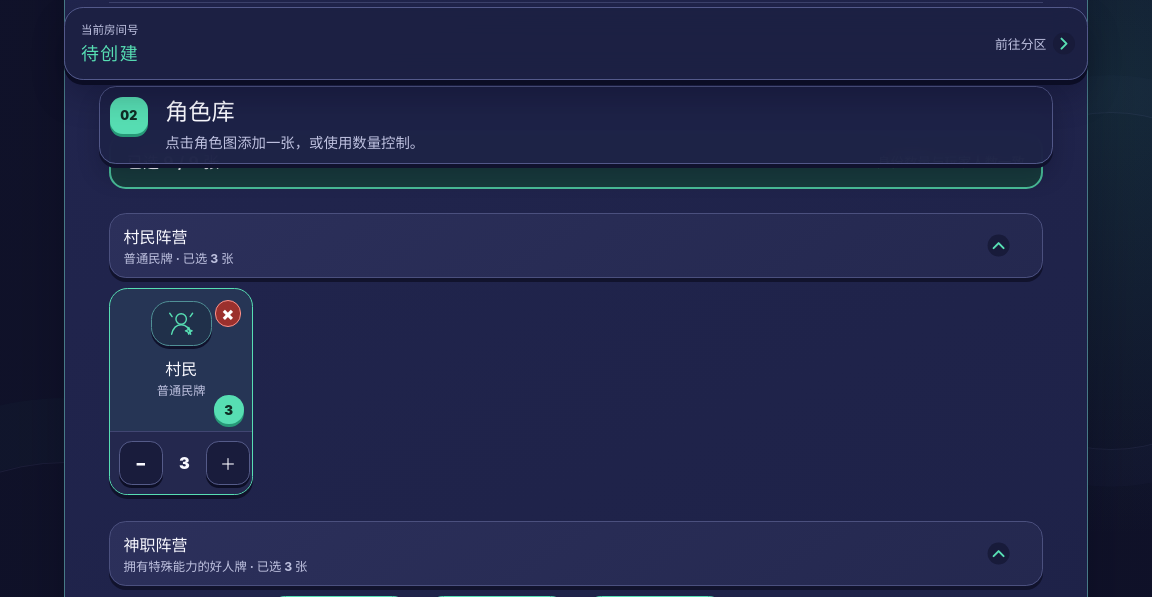
Test case: 上帝 Mock 流程 › 角色图按钮、加减号和移除操作会更新卡牌数量
The width and height of the screenshot is (1152, 597).
(page scrolled)
Expected: the text named "村民数量" reads "3", [179,453,190,473]
Click the button with aria-label "添加一张村民".
click(181, 360)  # box [110,289,252,432]
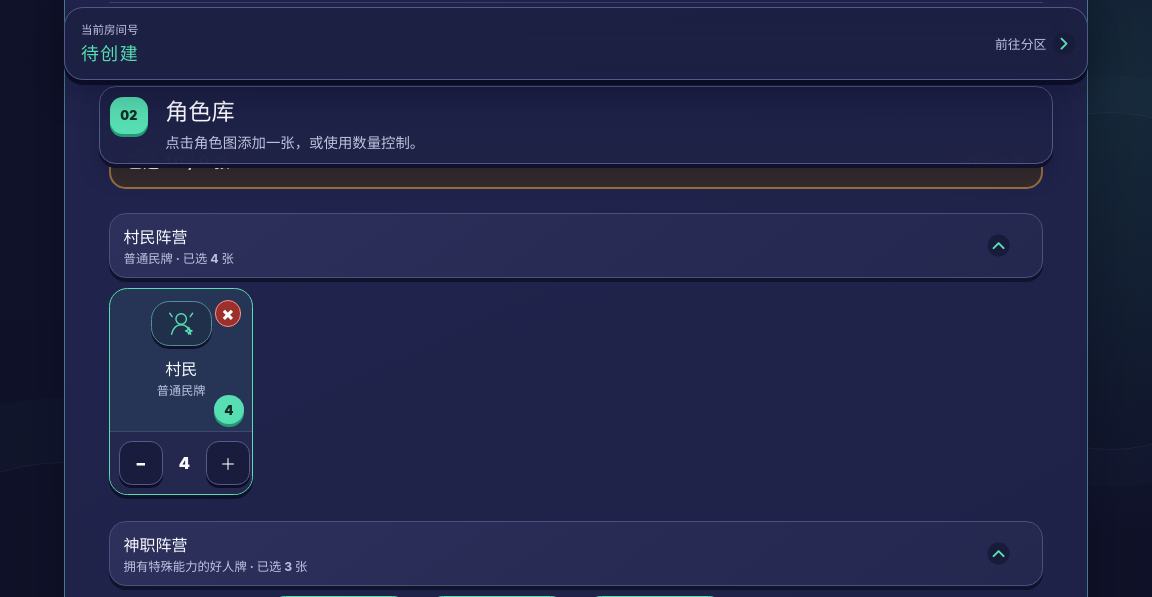
Now the text named "村民数量" reads "4", box [179,453,190,473]
Click the button named "减少一张村民".
click(141, 463)  # box [119,441,163,485]
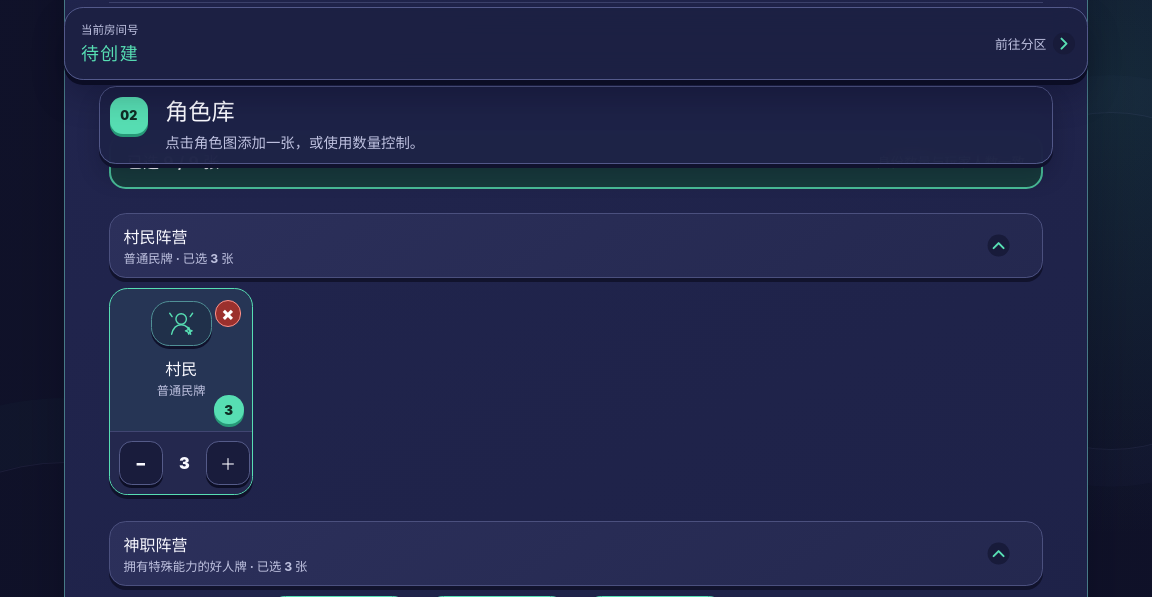
Now the text named "村民数量" reads "3", box [179,453,190,473]
Click the button named "移除全部村民".
click(228, 314)  # box [206,292,250,336]
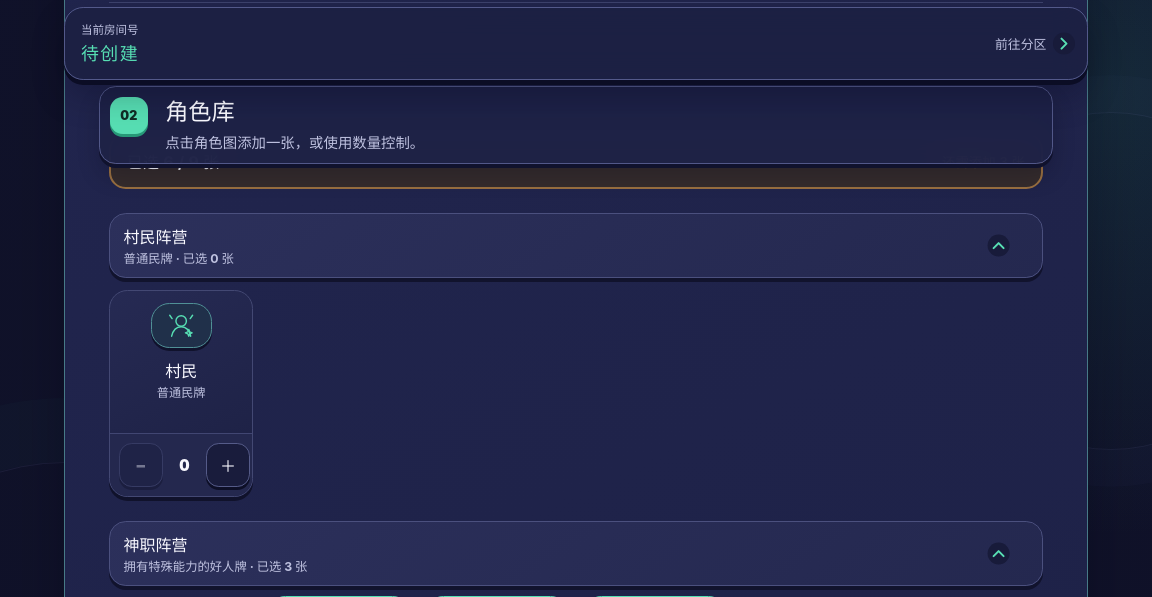
Now the text named "村民数量" reads "0", box [179,455,190,475]
Now the button "移除全部村民" is gone
